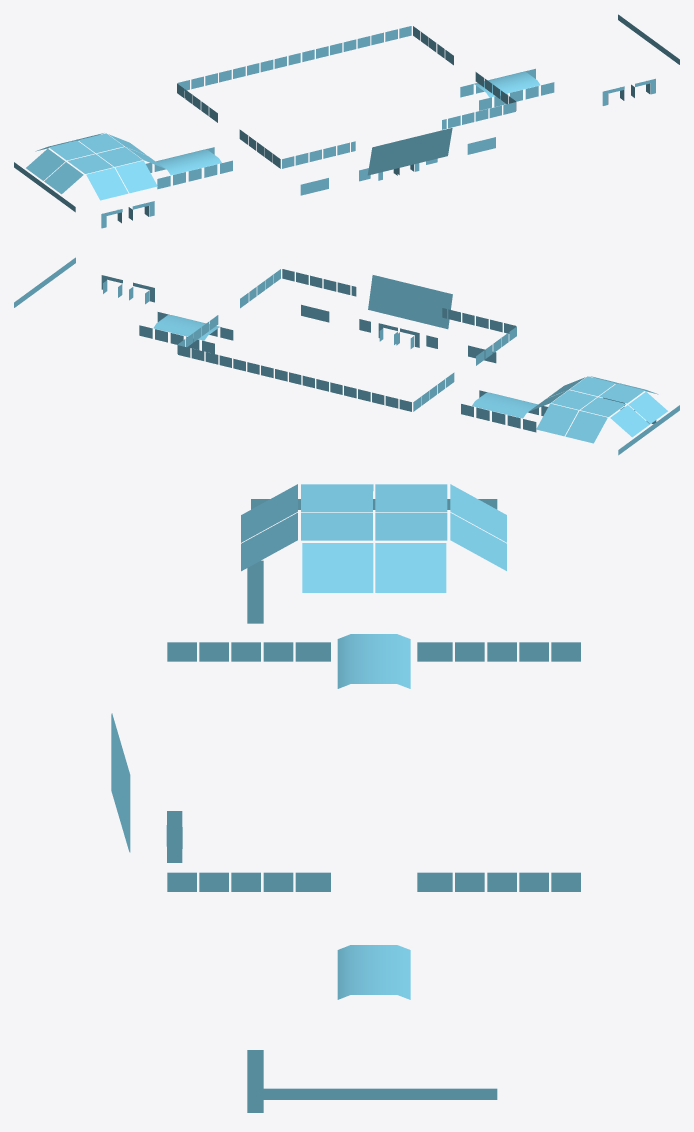
File: Windows_Planters.fbx
3 views of the same model, one above another, from view 1: azimuth 30°, elevation 25°; view 2: azimuth 150°, elevation 25°; view 3: azimuth 270°, elevation 25° (orthographic). The views are drawn at different scales.
Visible parts, largest first — view 1: CenterWindow; view 2: CenterWindow; view 3: CenterWindow.
Part boxes in pixels (<box>): CenterWindow: <box>14,14,679,228</box>; CenterWindow: <box>14,257,679,455</box>; CenterWindow: <box>111,484,580,1112</box>.
Bounding box in the file's own units: 20215 × 1541 × 6815.
